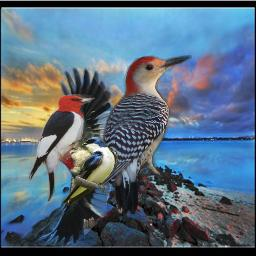Swallow: (61, 136, 118, 206)
Woodpecker: (38, 67, 154, 248), (98, 55, 192, 214), (28, 94, 95, 202)
